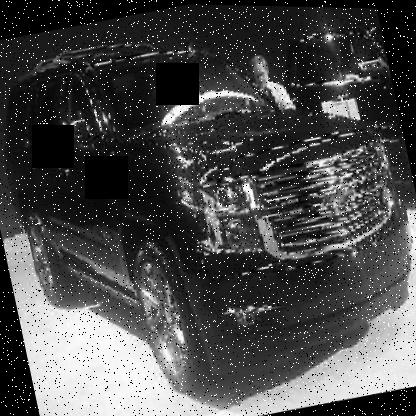not_emergency: (0, 0, 415, 406)
